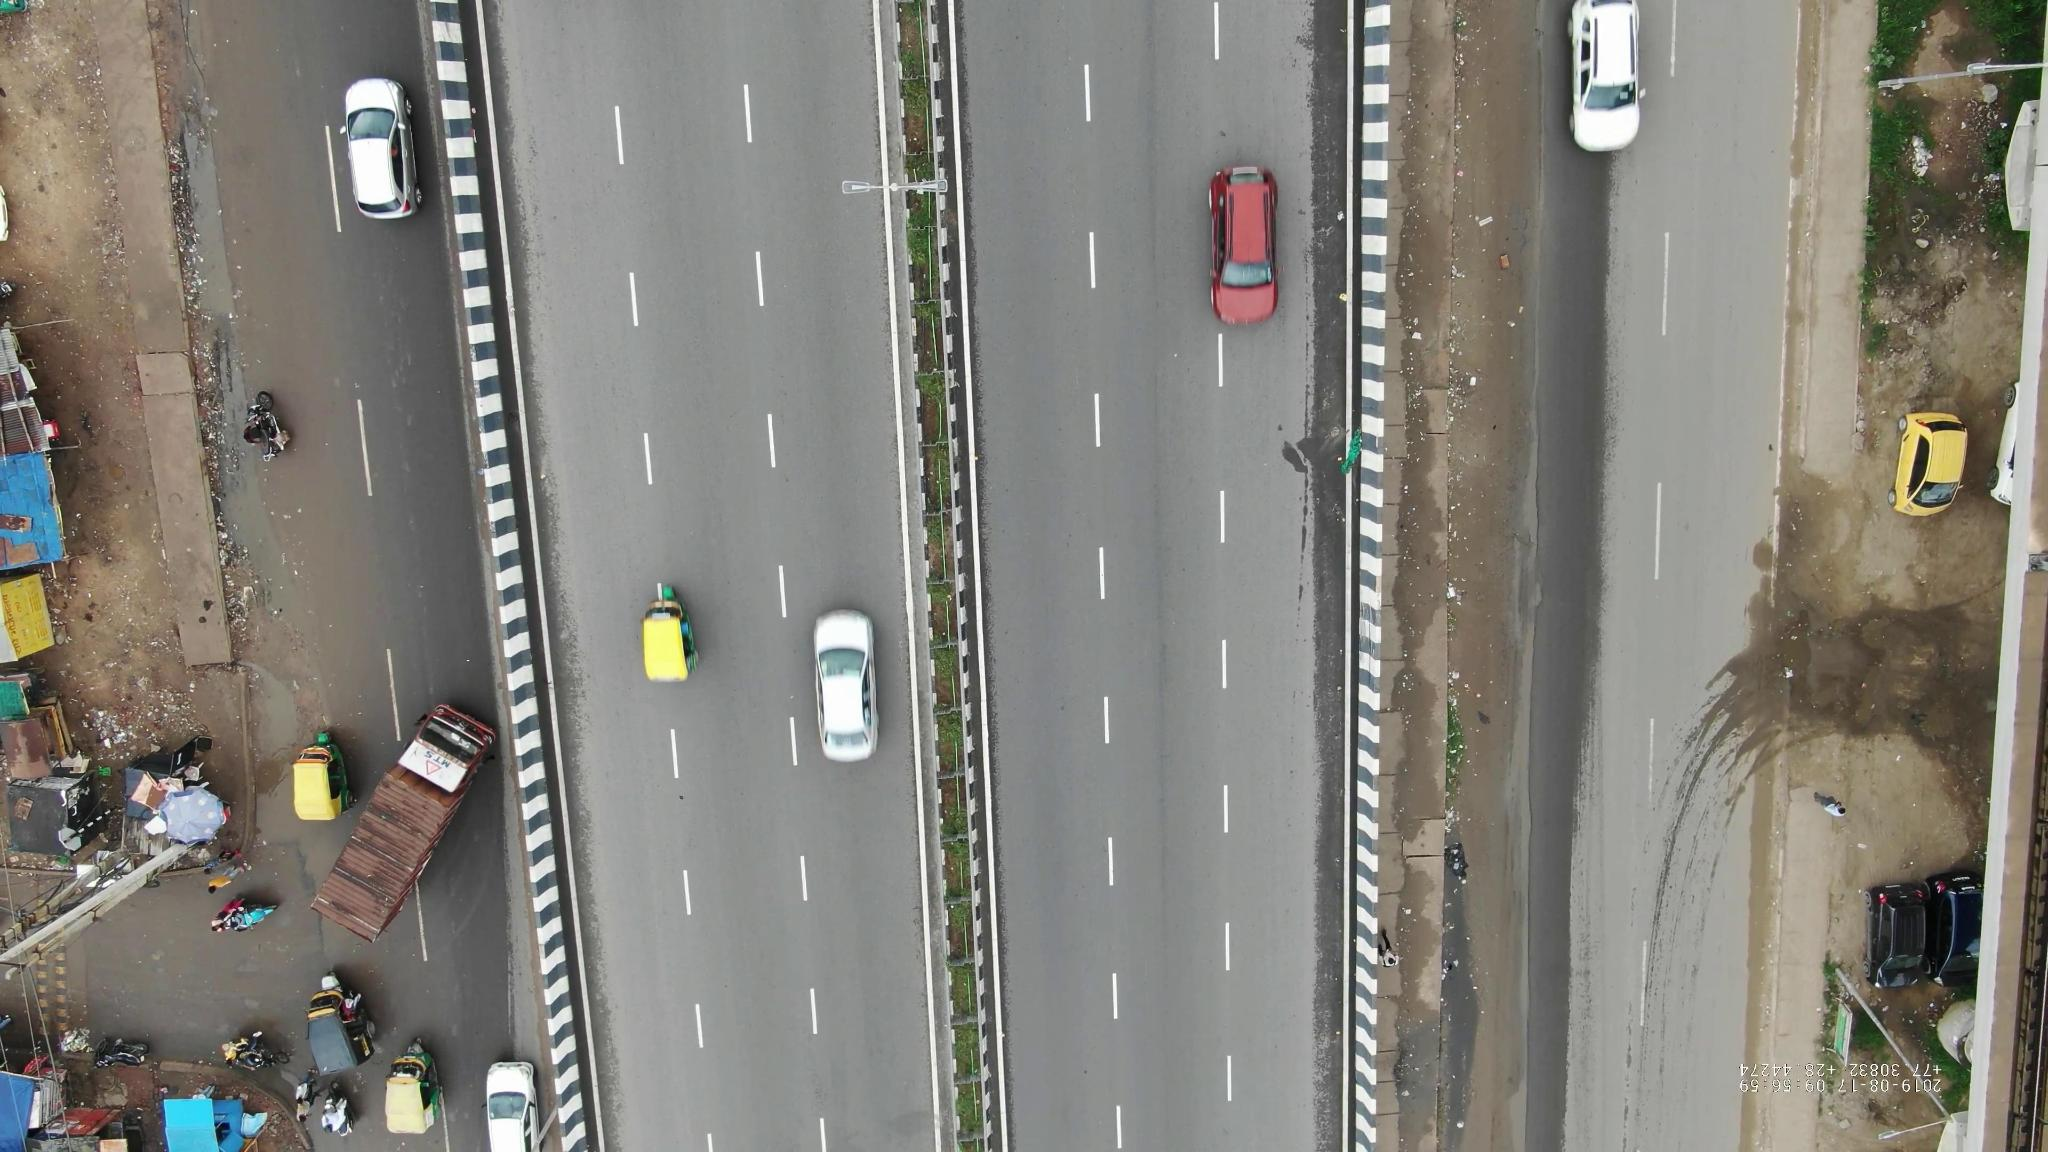Waterlogging: (155, 121, 239, 404), (204, 467, 280, 647)
